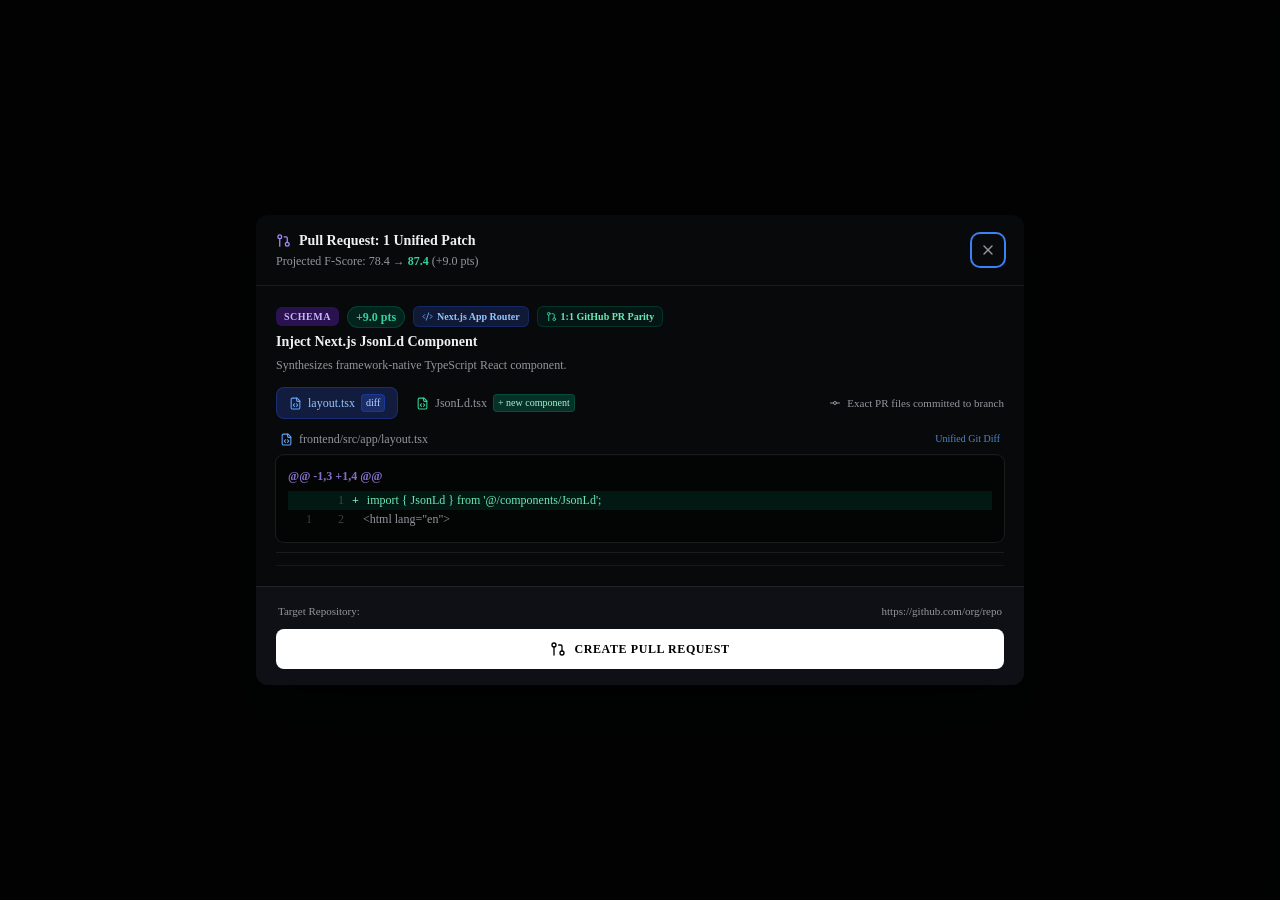
it: PatchModal - Framework-Native tabs and Dual Perspective › switches to auxiliary file content when clicked
Click the button with test id "tab-frontend/src/components/JsonLd.tsx" at (496, 403), box [404,388,587,418]
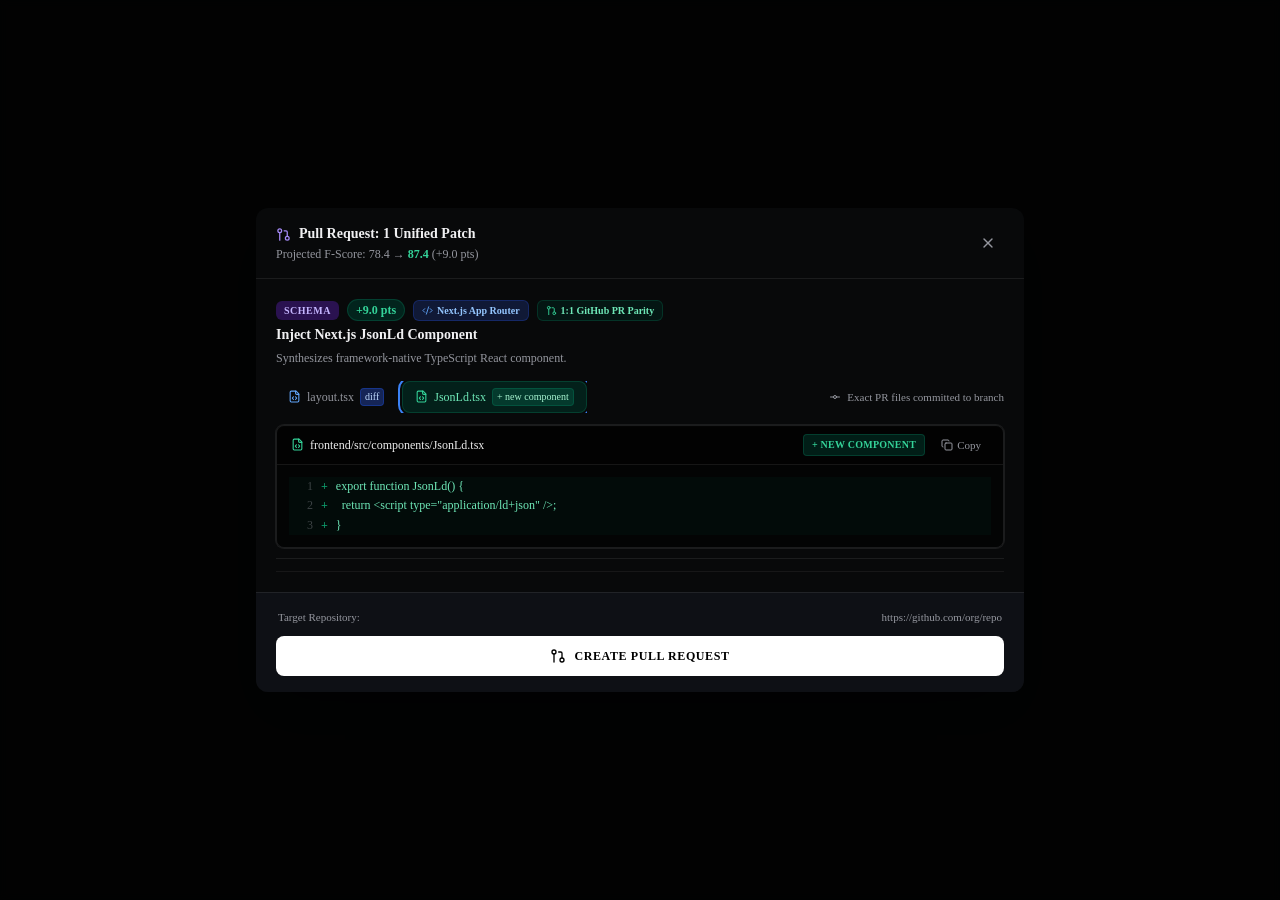
expect the text "+ NEW COMPONENT" is shown: met, box [803,434,925,456]
expect the text "export function JsonLd() {" is shown: met, box [336,477,464,496]
